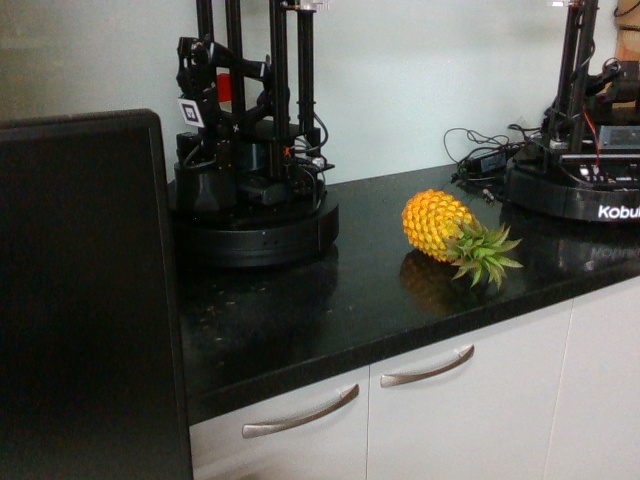pineapple: (398, 186, 524, 287)
